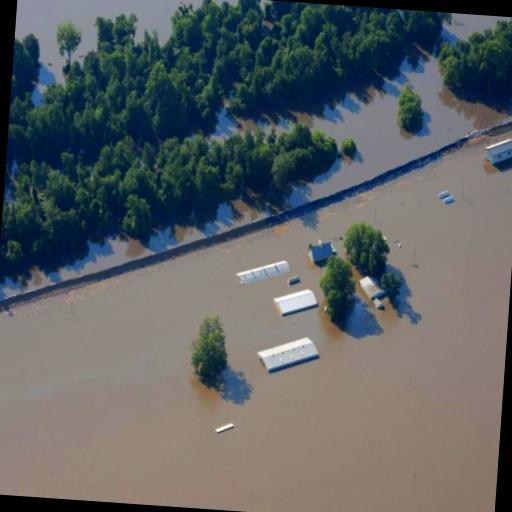flood: (0, 133, 512, 512), (0, 46, 512, 299), (15, 0, 200, 102), (442, 13, 512, 42)
house: (254, 332, 324, 382), (269, 282, 318, 320), (483, 135, 512, 167), (357, 274, 385, 302), (305, 241, 335, 266)
